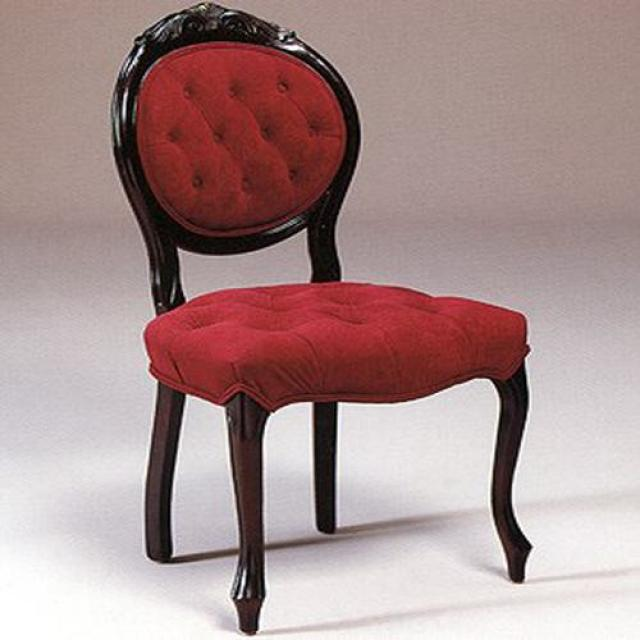chair: (109, 5, 531, 637)
